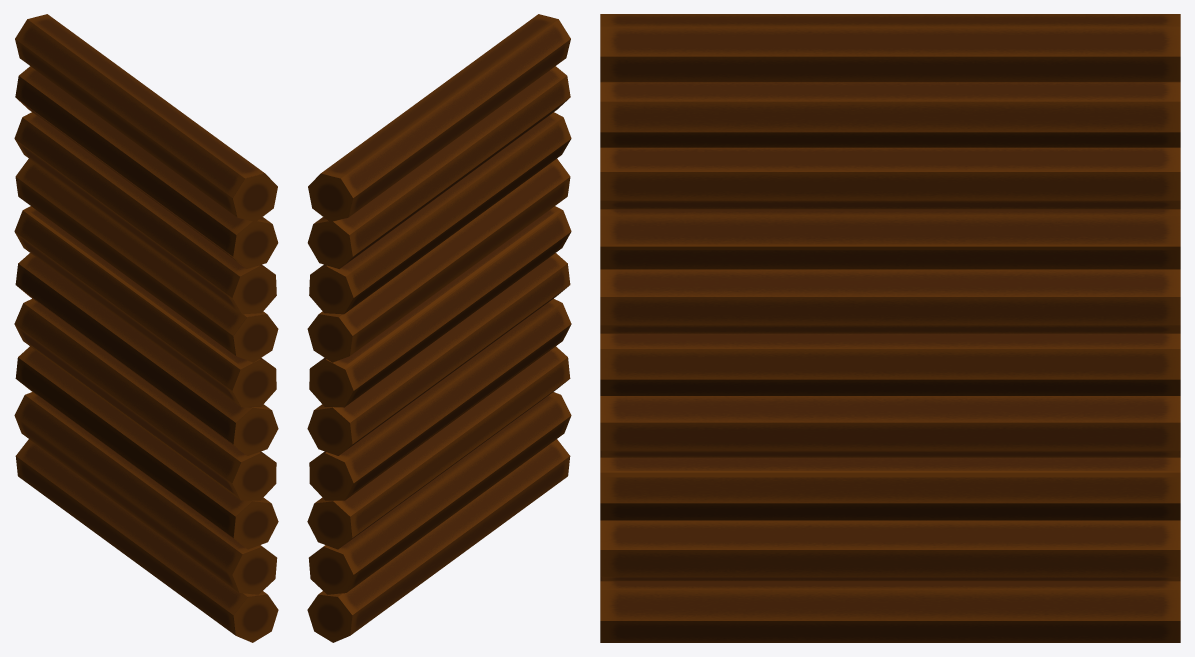
The model's file is stackedLogs.fbx.
3 views of the same model, side by side, from view 1: azimuth 30°, elevation 25°; view 2: azimuth 150°, elevation 25°; view 3: azimuth 270°, elevation 25° (orthographic). The views are drawn at different scales.
Parts seen in each view (by area): view 1: backLogs; view 2: backLogs; view 3: backLogs.
Part boxes in pixels (x1,y1,x2,y2): backLogs: [14, 14, 278, 642]; backLogs: [307, 14, 571, 642]; backLogs: [600, 14, 1180, 642].
Bounding box in the file's own units: 65.42 × 629 × 533.
